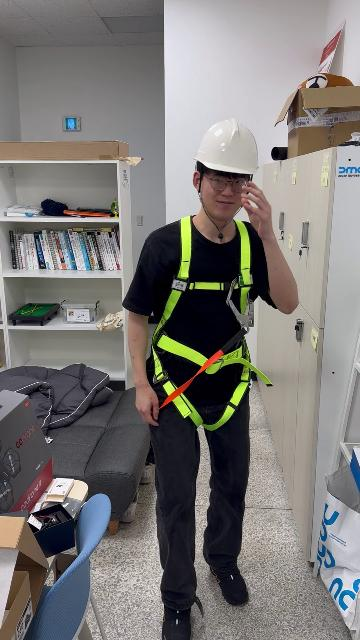helmet_worn: (191, 118, 261, 176)
shoe_not_worn: (140, 463, 154, 483)
shoe_worn: (208, 561, 249, 605), (160, 603, 193, 638)
vest_worn: (147, 222, 265, 419)
